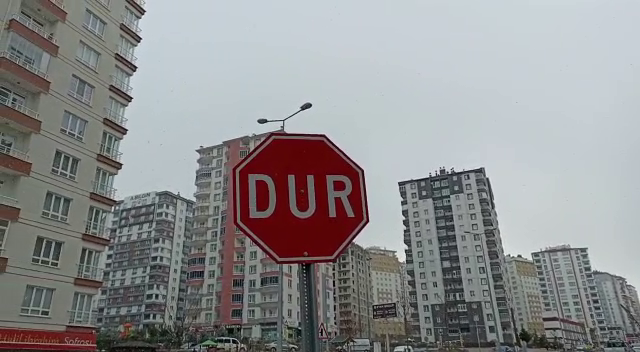stop: (229, 130, 374, 267)
